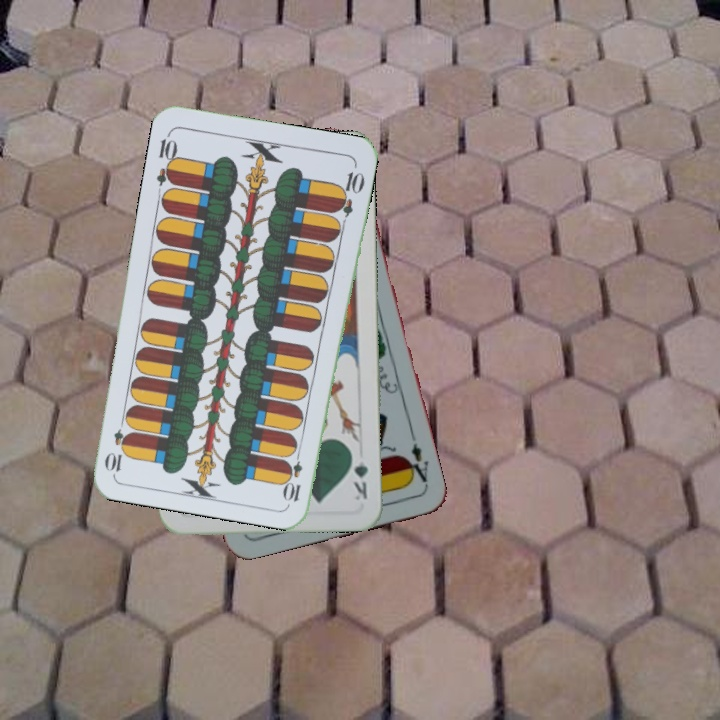E10: (152, 129, 181, 187), (282, 445, 306, 504)
EA: (402, 431, 432, 489)
GK: (347, 446, 371, 503)
